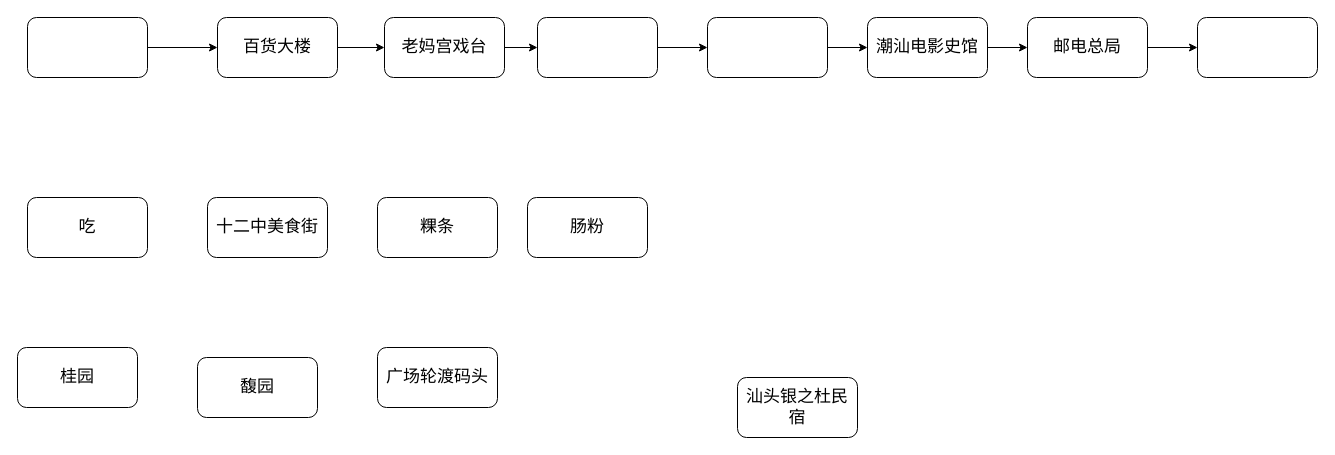
Image size: 1335x455. Some labels were removed from this diagram. The shapes that lost their labels are listed below. From the top down, each one's centre as x and y in pixels, then its label:
At [87,47]: "小公园".
At [597,47]: "汕头旅社".
At [767,47]: "镇邦美食街".
At [1257,47]: "开埠文化馆".
